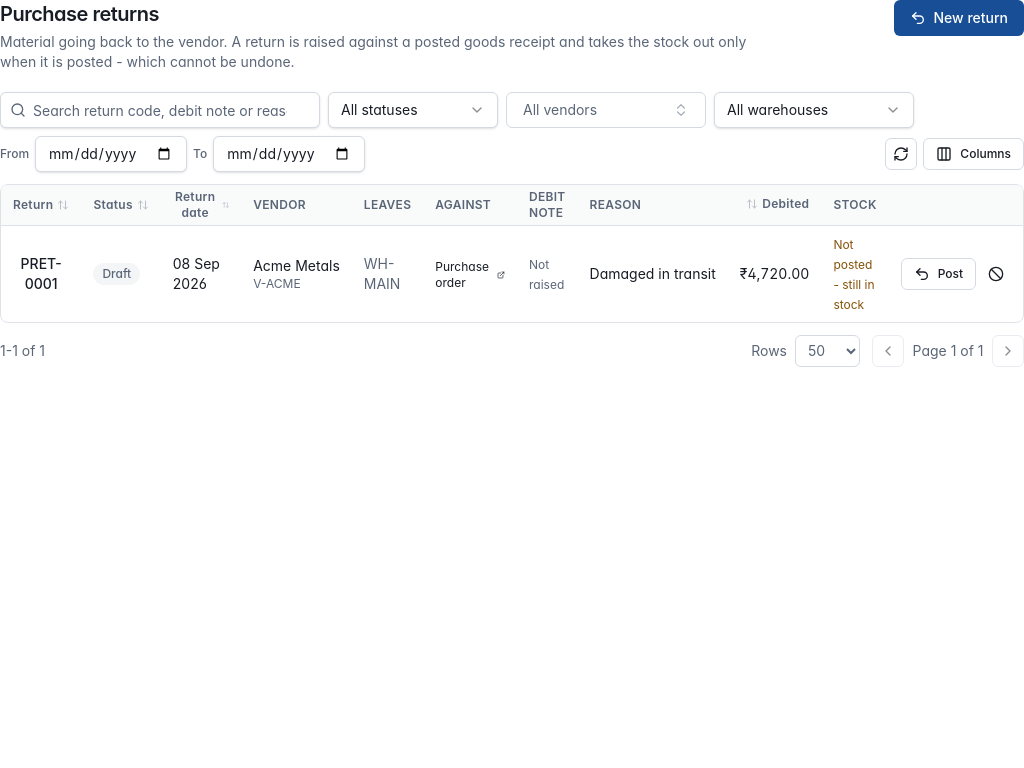
Test: posting the return › will not offer to post a return with no lines
Click the button "Post" at (938, 274), box [901,258,976,290]
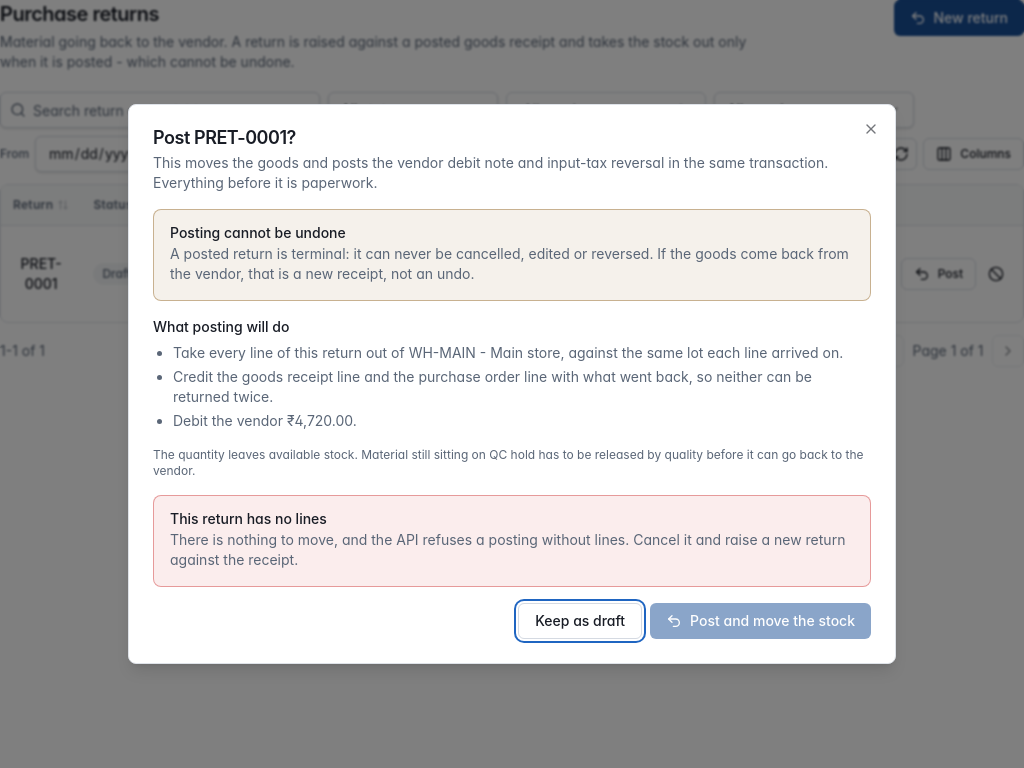
Now the dialog is shown, box [128,104,896,664]
Now the heading "This return has no lines" is shown, box [170,510,327,527]
Now the button "Post and move the stock" is disabled, box [650,603,871,639]
